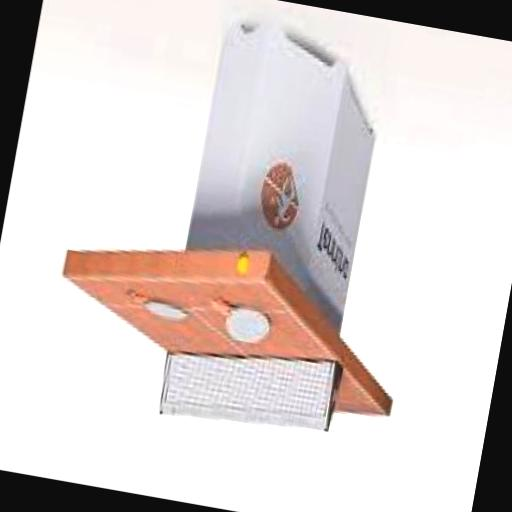cardboard: (34, 215, 412, 454), (170, 30, 385, 340)
